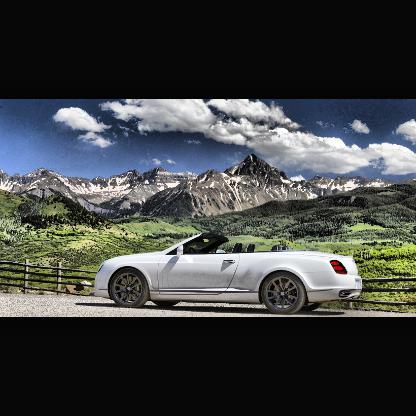Bentley Continental Supersports Conv- Convertible 2012: (95, 231, 364, 315)
